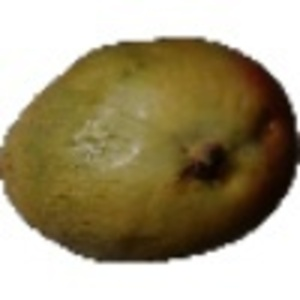mamão: (6, 31, 295, 271)
